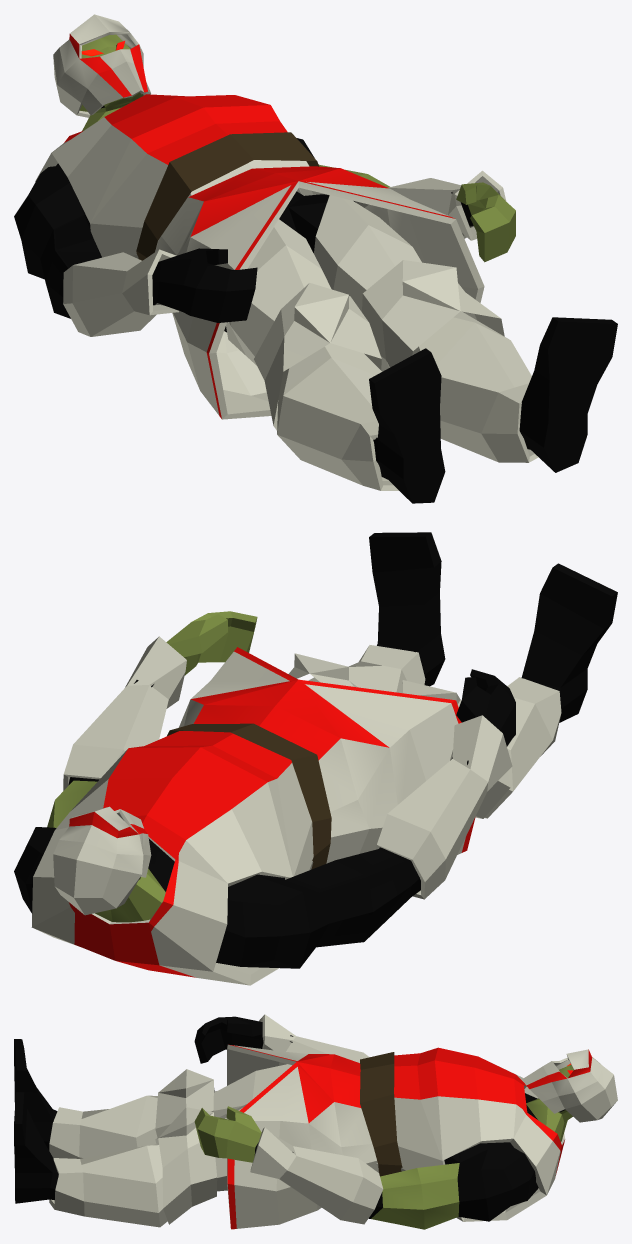
File: SoldierMutantblend (1).fbx
3 views of the same model, one above another, from view 1: azimuth 30°, elevation 25°; view 2: azimuth 150°, elevation 25°; view 3: azimuth 270°, elevation 25° (orthographic). The views are drawn at different scales.
Parts seen in each view (by area): view 1: body; view 2: body; view 3: body.
Boxes of the visible parts, x1,y1,x2,y2 form: body: (14, 14, 617, 503); body: (14, 532, 617, 985); body: (14, 1014, 617, 1229).
Size of the model in its own units: 307 by 170 by 601.
